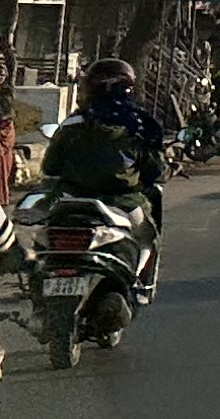BikeWithRider: (5, 51, 175, 374)
Helmet: (70, 53, 144, 116)
